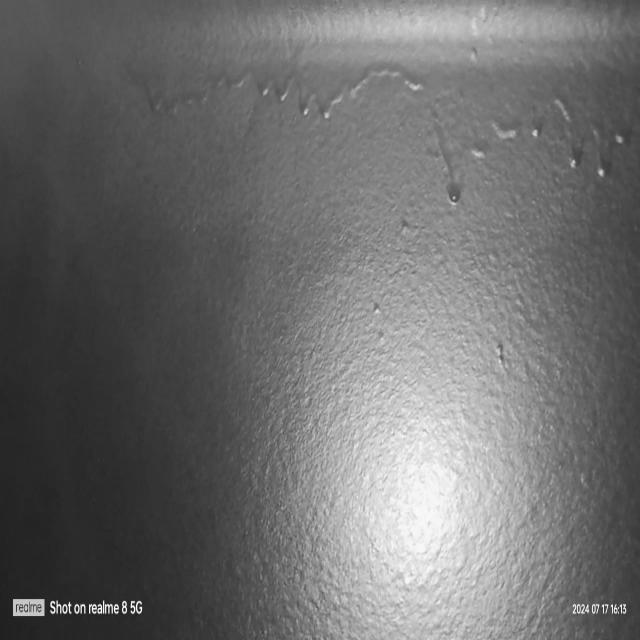paint drips: (102, 28, 640, 216)
